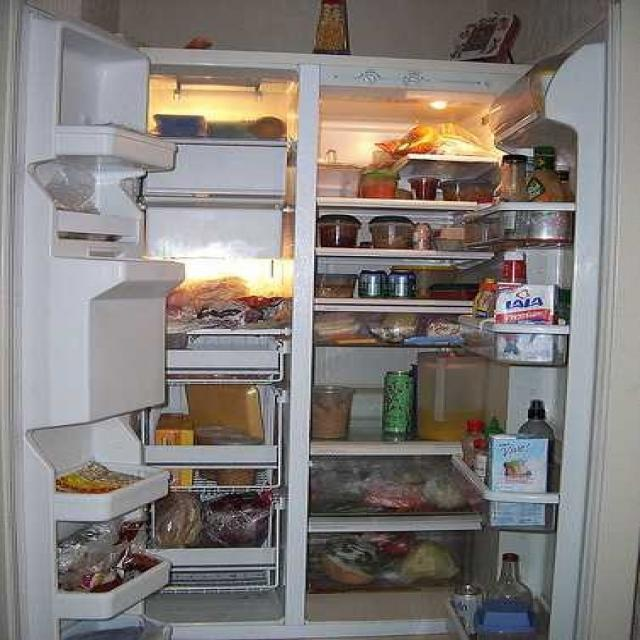refrigerator: (0, 40, 606, 639)
